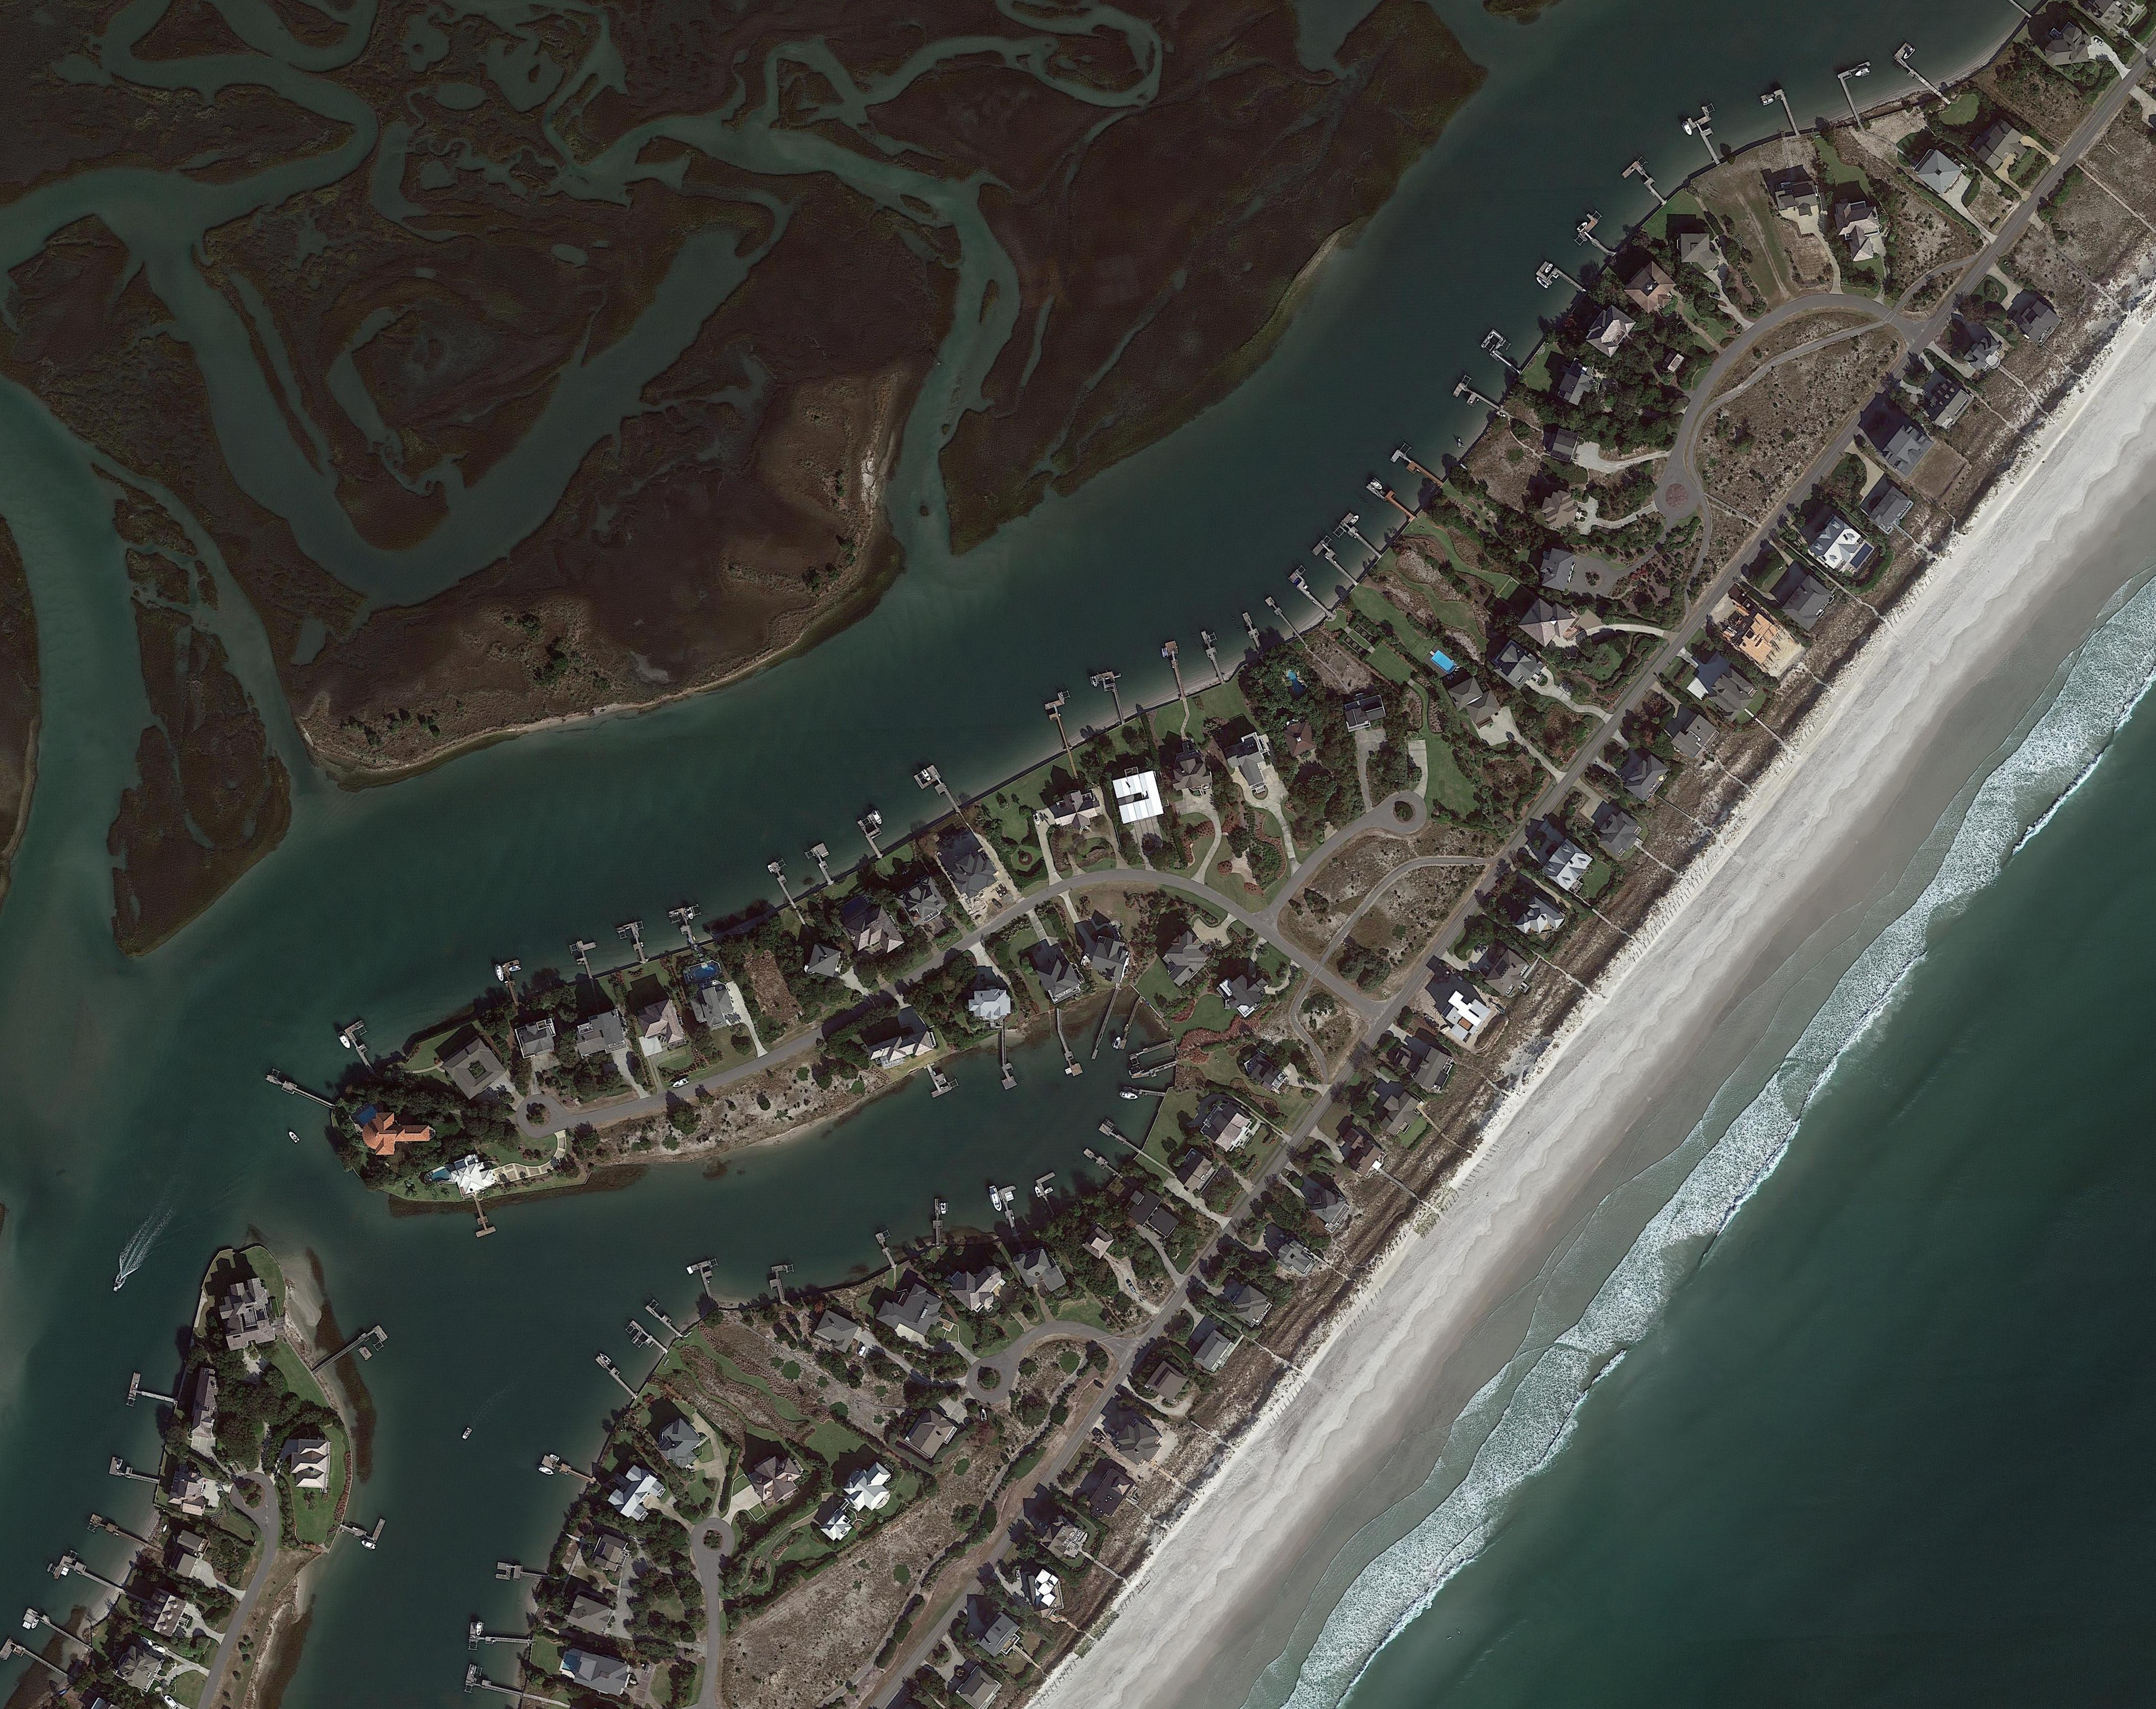harbor: (311, 1322, 388, 1385), (2, 1637, 70, 1690), (1893, 42, 1955, 100), (54, 1555, 124, 1604), (1837, 61, 1892, 124), (23, 1608, 89, 1657), (264, 1072, 338, 1113), (913, 764, 961, 822), (1620, 161, 1671, 213), (1571, 213, 1624, 264), (1389, 448, 1444, 495), (1312, 541, 1363, 589), (1535, 259, 1587, 306), (1367, 478, 1419, 525), (1687, 110, 1731, 166), (1480, 329, 1531, 376), (1339, 513, 1389, 560), (345, 1020, 388, 1074), (1041, 691, 1080, 752), (87, 1513, 149, 1552), (126, 1373, 182, 1415), (1288, 570, 1337, 616), (465, 1664, 527, 1699), (1760, 87, 1799, 142), (595, 1354, 640, 1399), (621, 1321, 668, 1363), (339, 1508, 387, 1548), (1452, 383, 1501, 422), (1092, 990, 1118, 1060), (856, 813, 894, 861), (469, 1622, 532, 1650), (1034, 1172, 1071, 1217), (1095, 672, 1125, 726), (997, 1184, 1029, 1235), (542, 1455, 595, 1485), (1265, 596, 1302, 638), (1199, 628, 1227, 682), (691, 1259, 723, 1307), (646, 1301, 686, 1338), (570, 938, 604, 981), (1097, 1123, 1143, 1154), (616, 922, 647, 967), (500, 959, 530, 1006), (1081, 1146, 1123, 1179), (108, 1457, 161, 1483), (1057, 1029, 1083, 1078), (495, 1562, 548, 1587), (1165, 642, 1188, 698), (770, 861, 798, 906), (465, 1198, 497, 1238), (920, 1060, 952, 1100), (812, 843, 842, 885), (1241, 612, 1269, 656), (668, 906, 696, 950), (1130, 1060, 1179, 1085), (1118, 1001, 1141, 1050), (765, 1265, 793, 1303), (1129, 1041, 1172, 1062), (875, 1231, 899, 1268), (996, 1062, 1022, 1092), (1123, 1086, 1165, 1099), (933, 1198, 943, 1247), (1001, 1027, 1006, 1064)
ship: (989, 1186, 1004, 1212), (336, 1030, 353, 1051), (672, 1076, 691, 1090), (163, 1693, 178, 1709), (1680, 119, 1694, 136), (870, 808, 884, 826), (1535, 275, 1549, 290), (287, 1128, 301, 1144), (359, 1539, 376, 1552), (493, 964, 506, 981), (1347, 513, 1361, 527), (1575, 220, 1589, 234), (1368, 479, 1384, 492), (1080, 952, 1092, 967), (1122, 1090, 1139, 1100), (1853, 68, 1871, 79), (1902, 47, 1914, 61), (1031, 812, 1043, 826), (539, 1468, 556, 1476), (1032, 1184, 1043, 1198), (1543, 261, 1554, 275), (1113, 1034, 1122, 1050), (922, 770, 933, 782), (112, 1280, 122, 1293), (462, 1427, 472, 1440), (1762, 96, 1776, 105), (509, 964, 523, 973), (686, 906, 695, 920), (1043, 1186, 1055, 1195), (30, 1618, 38, 1630), (980, 1408, 987, 1422), (940, 1202, 947, 1216), (115, 1457, 122, 1471), (476, 1623, 483, 1637), (1092, 675, 1099, 687), (549, 1454, 560, 1461), (766, 864, 773, 873)
